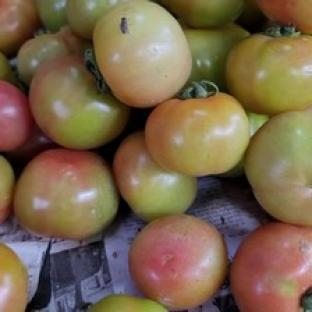Tomato: (13, 148, 119, 239), (129, 214, 228, 310), (30, 55, 129, 149), (145, 92, 249, 176), (244, 109, 311, 225), (113, 131, 197, 221), (226, 28, 311, 115), (230, 222, 311, 311), (184, 24, 249, 91), (17, 27, 90, 86), (6, 124, 58, 174), (0, 80, 33, 151), (0, 243, 27, 311), (88, 294, 167, 311), (0, 155, 15, 224), (0, 52, 18, 86), (221, 156, 245, 176)
